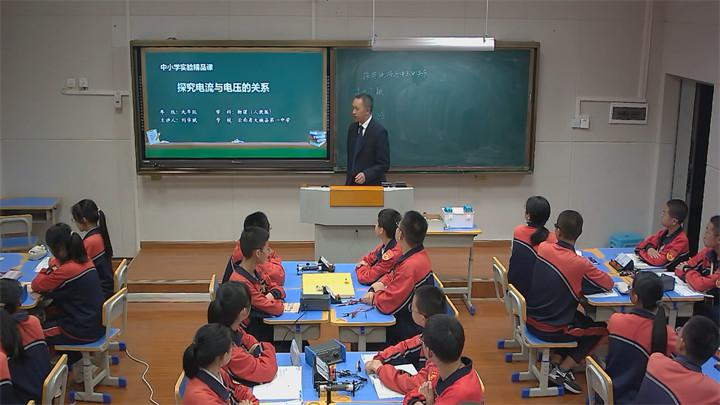bow: (38, 225, 73, 320), (70, 191, 115, 264)
listen: (550, 204, 599, 311), (181, 320, 242, 405), (667, 306, 718, 398), (615, 264, 663, 353), (420, 312, 470, 397), (509, 180, 546, 283), (391, 204, 438, 283), (641, 185, 689, 259), (236, 227, 277, 296)
